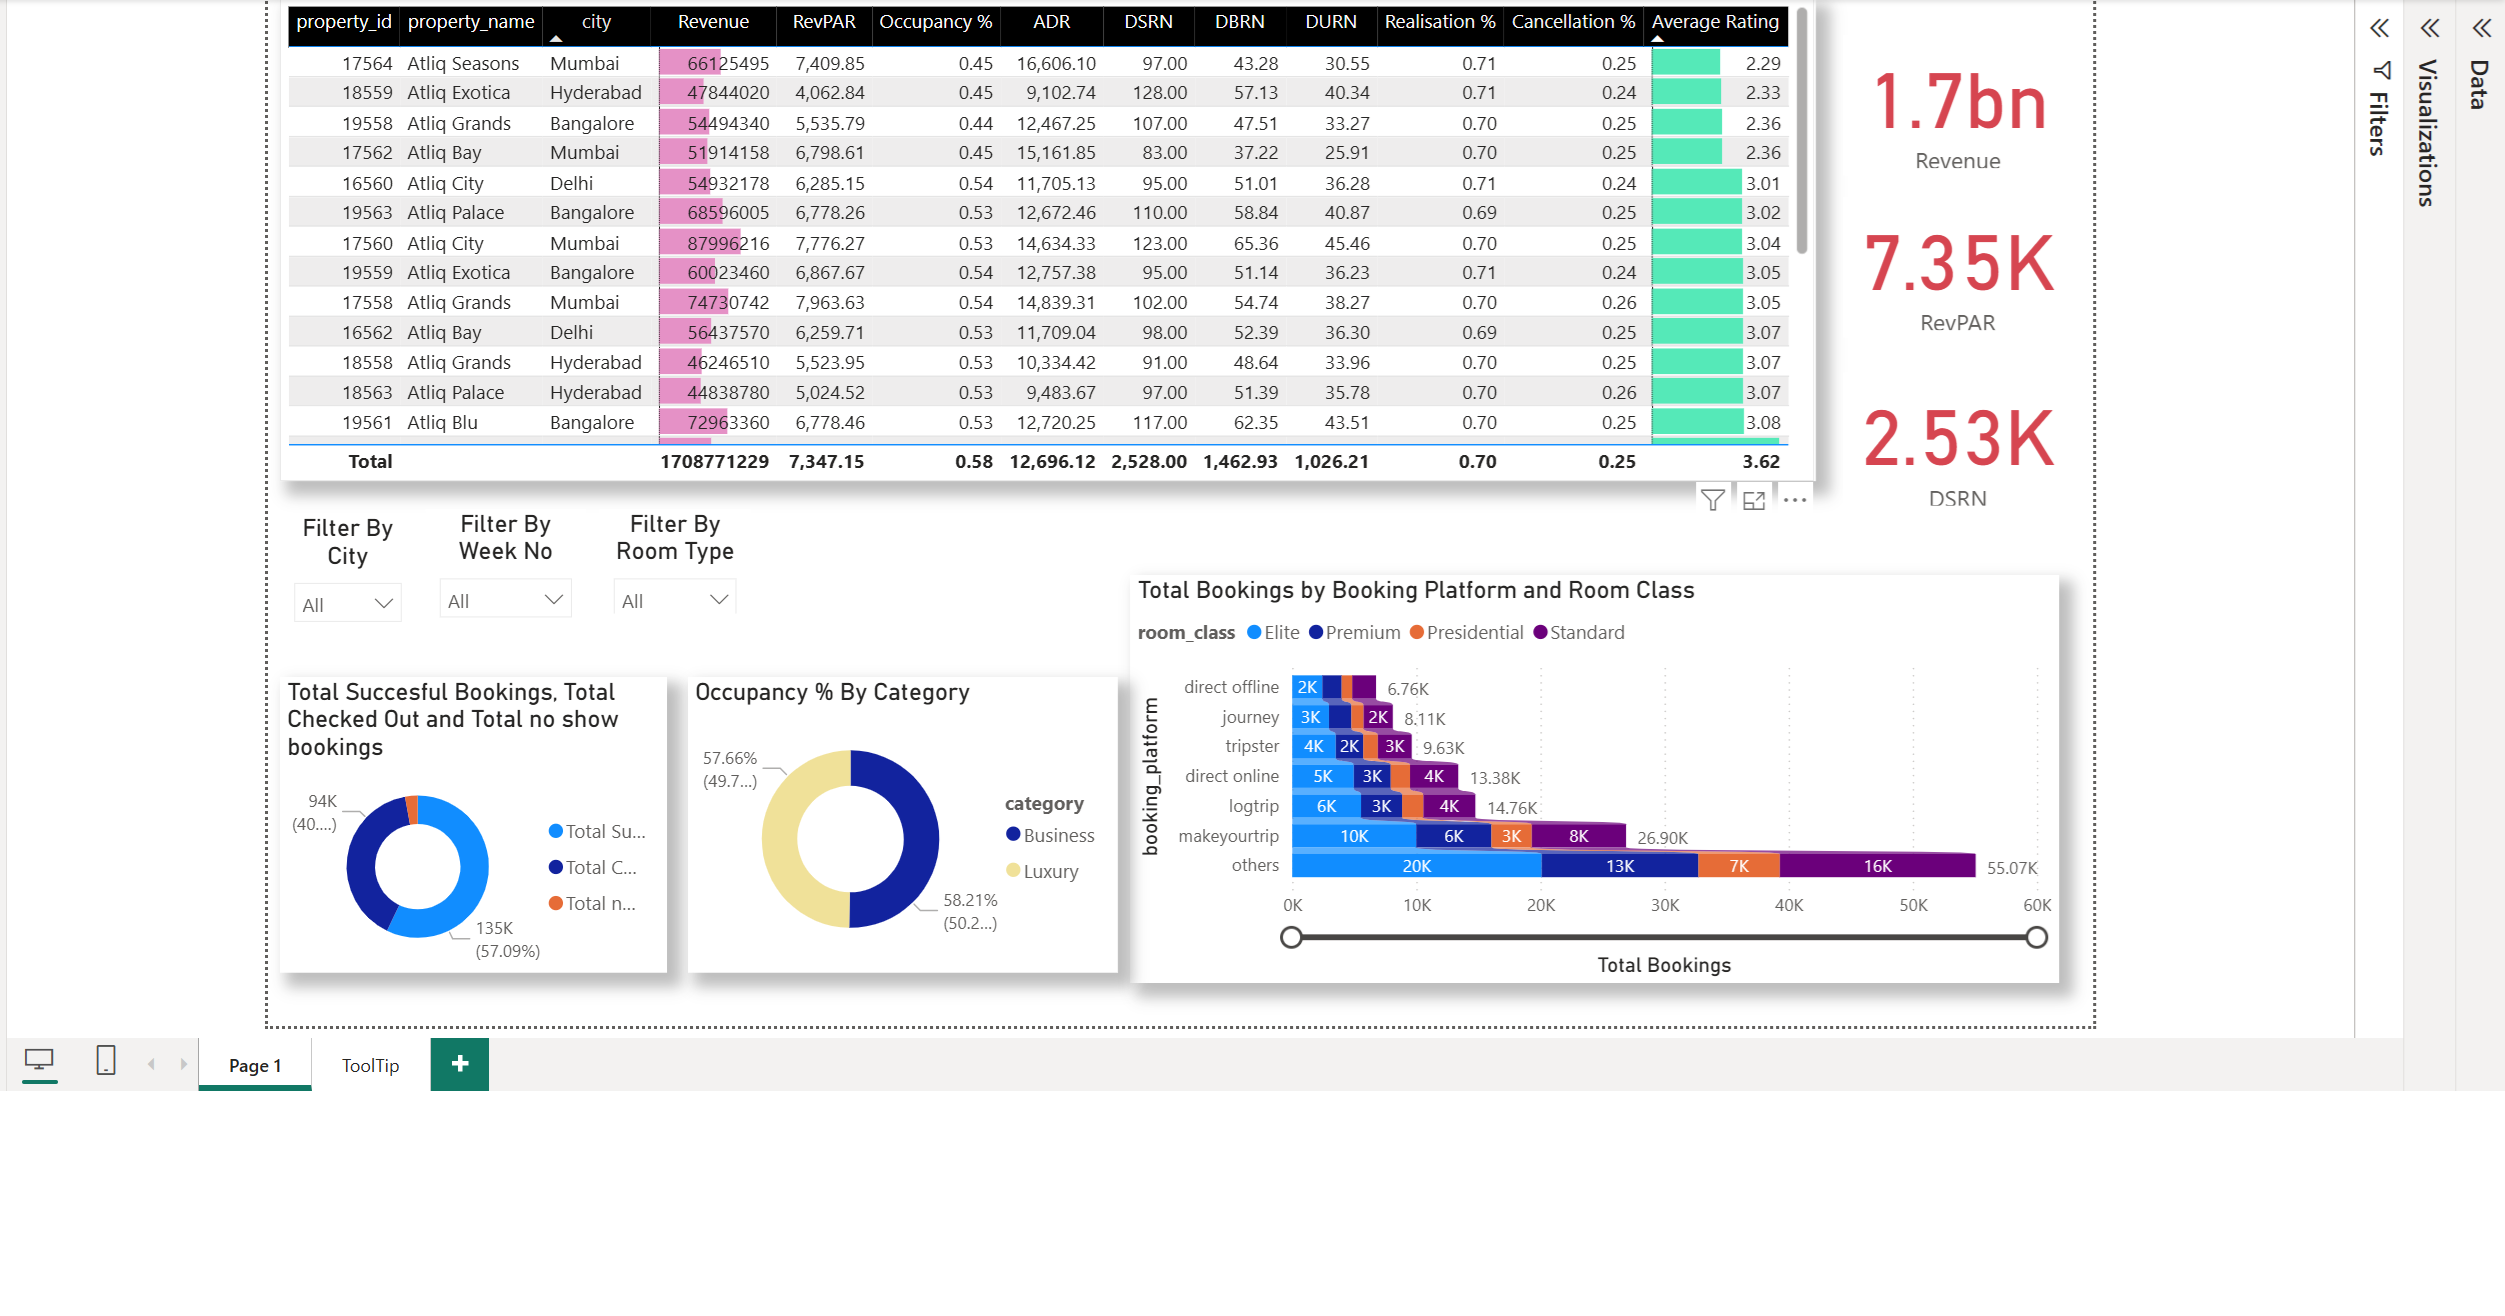

The page's visual inventory and layout, read from the dashboard file:
{"tool":"powerbi","page":{"name":"Page 1","canvas":[1280,720],"ordinal":0},"visuals":[{"type":"tableEx","fields":{"Values":["dim_hotels.property_id","dim_hotels.property_name","dim_hotels.city","key_measures.Revenue","key_measures.RevPAR","key_measures.Occupancy %","key_measures.ADR","key_measures.DSRN","key_measures.DBRN","key_measures.DURN","key_measures.Realisation %","key_measures.Cancellation %"]},"box":[8,0,1076.5,337.8],"z":0},{"type":"slicer","title":"Filter By City","fields":{"Values":["dim_hotels.city"]},"box":[8.6,360.4,95.3,88],"z":1000},{"type":"slicer","title":"Filter By Room Type","fields":{"Values":["dim_rooms.room_class"]},"box":[232.1,358,106.3,73.3],"z":2000},{"type":"slicer","title":"Filter By Week No","fields":{"Values":["dim_date.week no"]},"box":[110,358,112.4,90.4],"z":3000},{"type":"barChart","title":"Total Bookings by Booking Platform and Room Class","fields":{"Y":["key_measures.Total Bookings"],"Category":["fact_bookings.booking_platform"],"Series":["dim_rooms.room_class"]},"box":[604.7,404.3,650.5,286.3],"z":6000},{"type":"donutChart","fields":{"Y":["key_measures.Total Succesful Bookings","key_measures.Total Checked Out","key_measures.Total no show bookings"]},"box":[8,475.3,271.4,207.3],"z":7000},{"type":"donutChart","title":"Occupancy % By Category","fields":{"Y":["key_measures.Occupancy %"],"Category":["dim_hotels.category"]},"box":[294.3,475.3,301.2,207.3],"z":8000},{"type":"card","fields":{"Values":["key_measures.RevPAR"]},"box":[1104,138.6,160.3,98.5],"z":8001},{"type":"card","fields":{"Values":["key_measures.DSRN"]},"box":[1104,262.3,160.3,98.5],"z":8002},{"type":"card","fields":{"Values":["key_measures.Revenue"]},"box":[1104,25.2,160.3,98.5],"z":8003}]}

Visuals, with their boxes on the page's 1280x720 design canvas (x1, y1, x2, y2). These are canvas units, not pixel positions in the 2505x1316 screenshot, which may show the page scaled, cropped or inside an application window:
tableEx - dim_hotels.property_id x dim_hotels.property_name: (x1=8, y1=0, x2=1084, y2=338)
"Filter By City" slicer: (x1=9, y1=360, x2=104, y2=448)
"Filter By Room Type" slicer: (x1=232, y1=358, x2=338, y2=431)
"Filter By Week No" slicer: (x1=110, y1=358, x2=222, y2=448)
"Total Bookings by Booking Platform and Room Class" barChart: (x1=605, y1=404, x2=1255, y2=691)
donutChart - key_measures.Total Succesful Bookings x key_measures.Total Checked Out: (x1=8, y1=475, x2=279, y2=683)
"Occupancy % By Category" donutChart: (x1=294, y1=475, x2=596, y2=683)
card - key_measures.RevPAR: (x1=1104, y1=139, x2=1264, y2=237)
card - key_measures.DSRN: (x1=1104, y1=262, x2=1264, y2=361)
card - key_measures.Revenue: (x1=1104, y1=25, x2=1264, y2=124)
